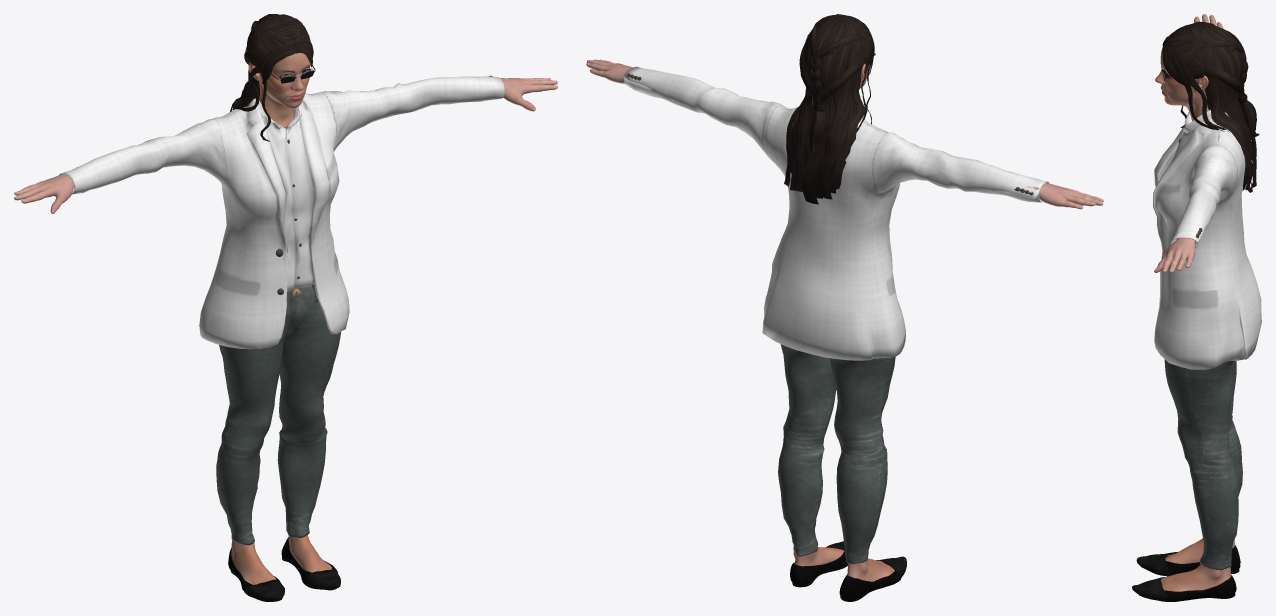
File: Female-Doctor.obj
3 views of the same model, side by side, from view 1: azimuth 30°, elevation 25°; view 2: azimuth 150°, elevation 25°; view 3: azimuth 270°, elevation 25° (orthographic).
Parts seen in each view (by area): view 1: Tops, Bottoms, Body, Hair, Shoes; view 2: Tops, Bottoms, Hair, Body, Shoes; view 3: Tops, Bottoms, Hair, Body, Shoes.
Boxes of the visible parts, bbox=[...] form: Tops: bbox=[59, 75, 504, 349]; Bottoms: bbox=[216, 283, 341, 545]; Body: bbox=[14, 53, 557, 584]; Hair: bbox=[230, 14, 313, 141]; Shoes: bbox=[228, 537, 340, 601]; Tops: bbox=[623, 66, 1049, 360]; Bottoms: bbox=[778, 344, 895, 564]; Hair: bbox=[784, 14, 874, 204]; Body: bbox=[586, 59, 1103, 581]; Shoes: bbox=[790, 541, 906, 601]; Tops: bbox=[1153, 110, 1261, 369]; Bottoms: bbox=[1164, 359, 1242, 570]; Hair: bbox=[1162, 21, 1259, 192]; Body: bbox=[1154, 14, 1235, 591]; Shoes: bbox=[1132, 545, 1240, 601].
Size of the model in its own units: 166 by 168 by 35.36.
1 material, 1 textured.
